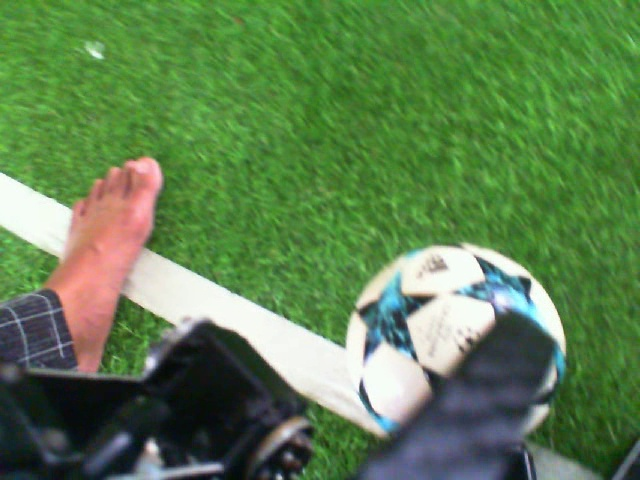ball: (343, 239, 518, 451)
